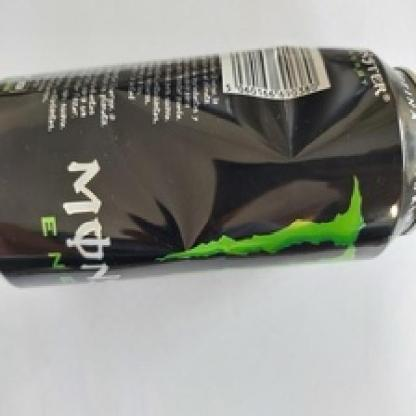Can: (0, 36, 416, 288)
